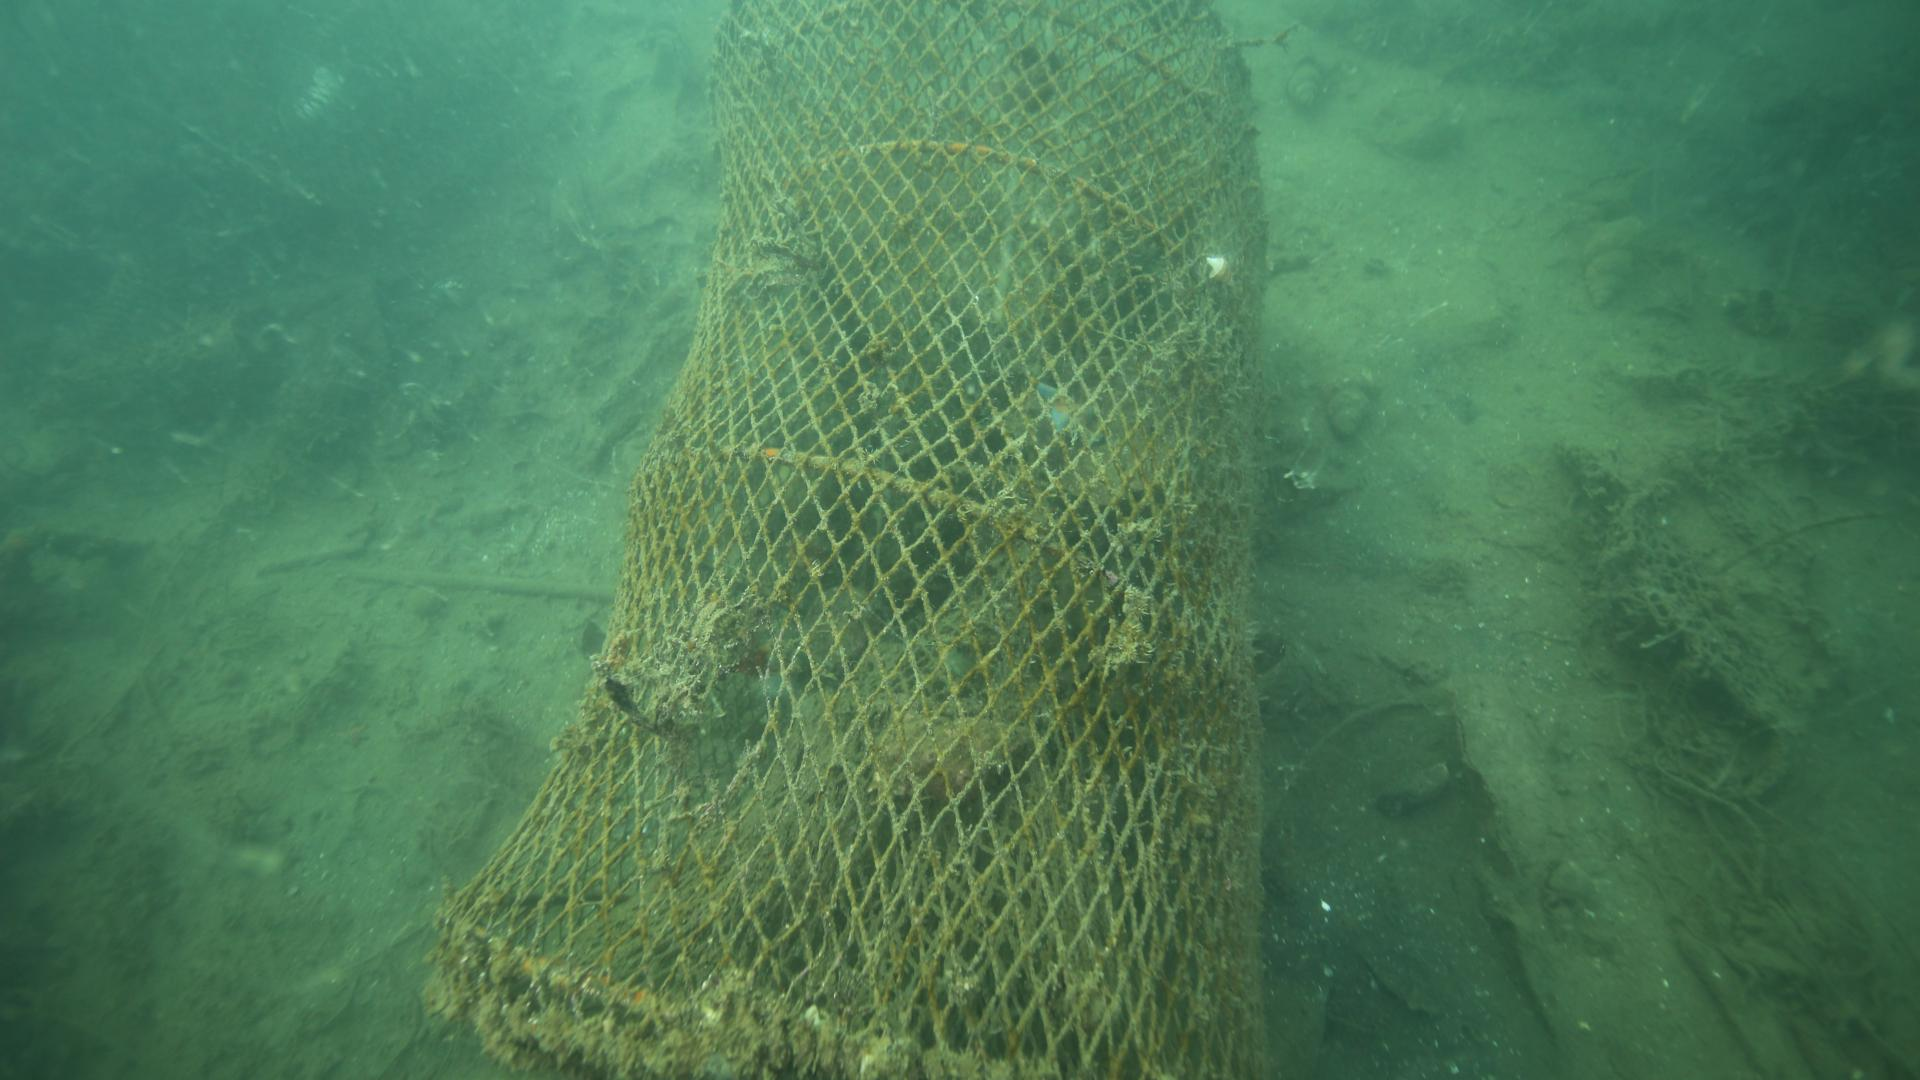spring fish trap: (431, 5, 1276, 1080)
